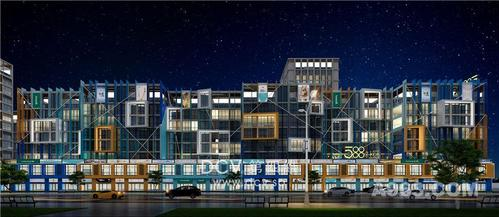buildings: (14, 66, 434, 187)
